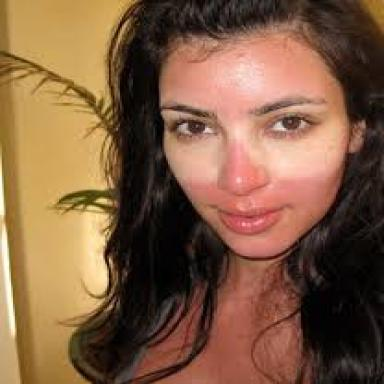burn: (126, 142, 346, 382), (159, 38, 346, 123)
